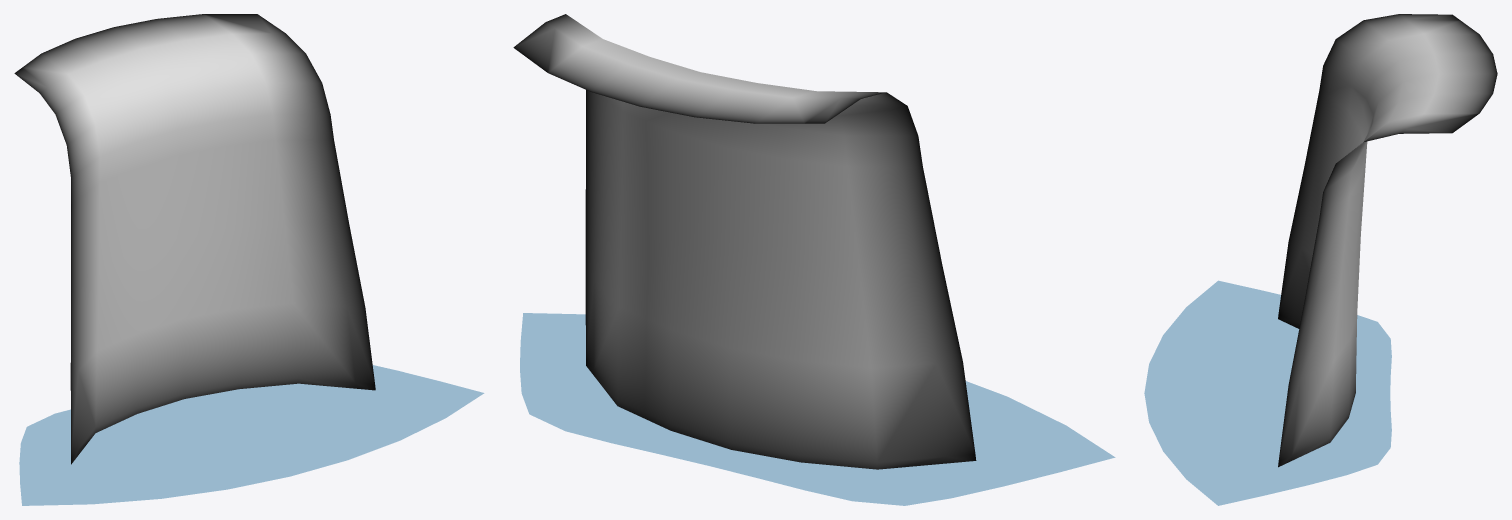
The model's file is SM_Waterfall7.fbx.
3 renders of one model, left to right at view 1: azimuth 30°, elevation 25°; view 2: azimuth 150°, elevation 25°; view 3: azimuth 270°, elevation 25°, orthographic. The views are drawn at different scales.
Parts seen in each view (by area): view 1: SM_Waterfall7; view 2: SM_Waterfall7; view 3: SM_Waterfall7.
Boxes of the visible parts, <box> form: SM_Waterfall7: <box>14,14,484,505</box>; SM_Waterfall7: <box>513,14,1115,505</box>; SM_Waterfall7: <box>1144,14,1497,505</box>.
Size of the model in its own units: 2736 by 1818 by 1812.
